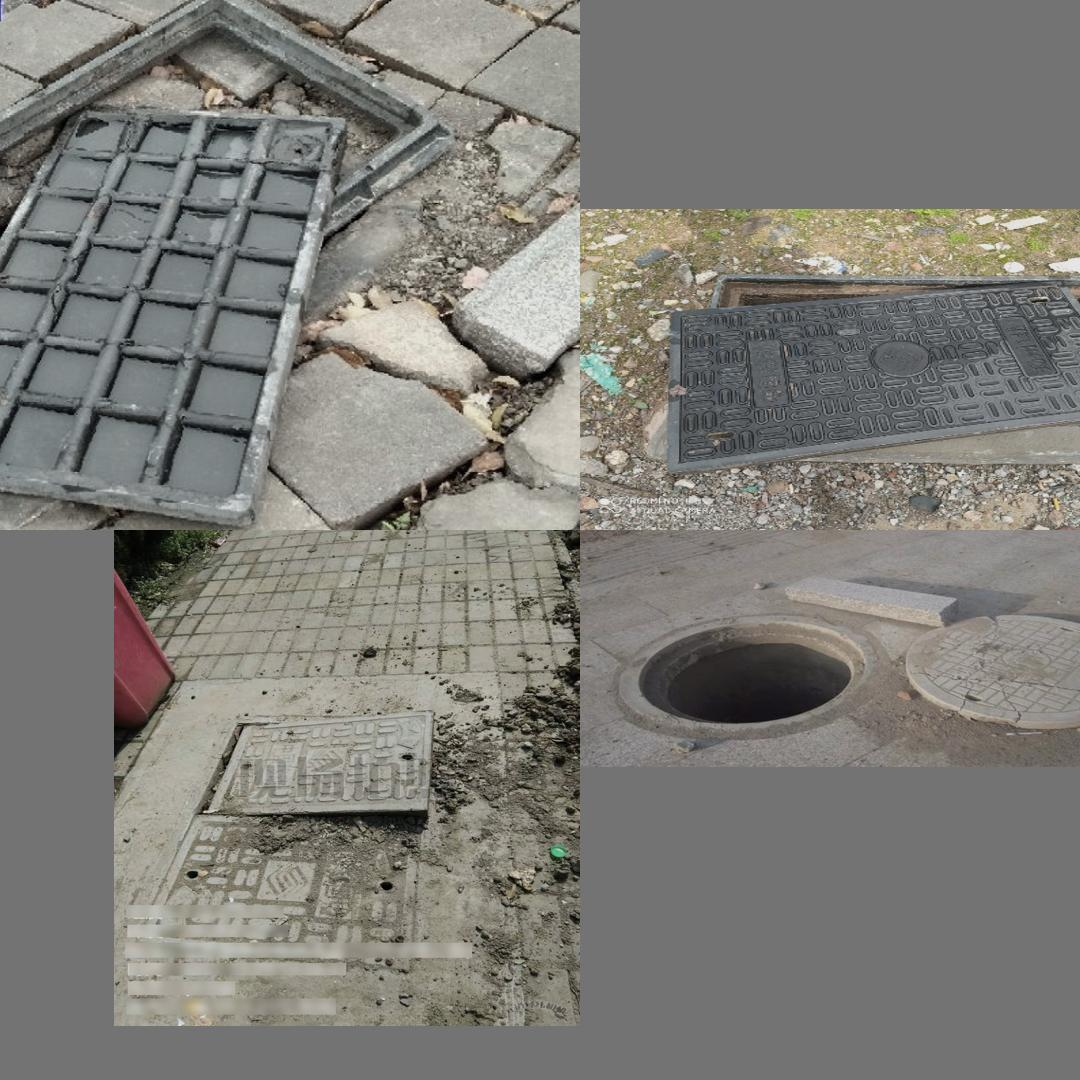uncovered: (0, 0, 458, 522), (666, 274, 1080, 469), (134, 710, 434, 978), (614, 609, 1080, 734)
